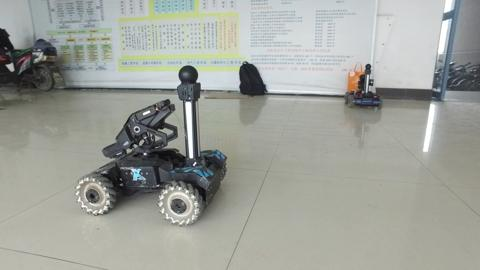bag: (231, 54, 274, 102)
chariot: (72, 64, 233, 224), (339, 57, 388, 116)
